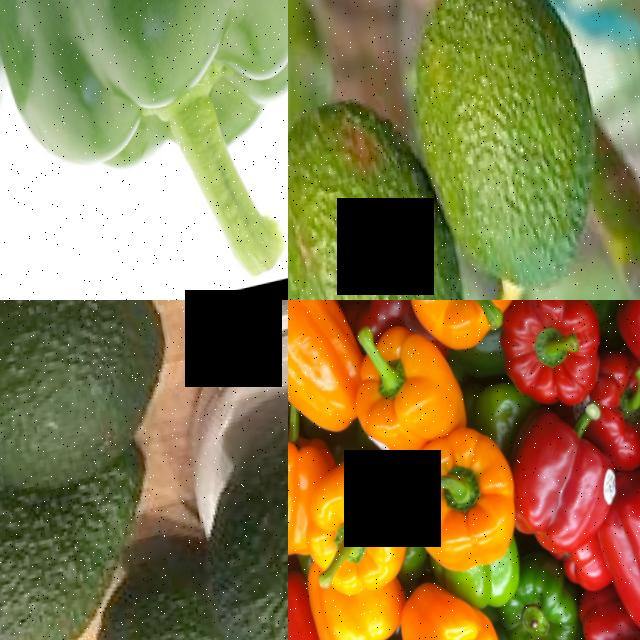avocado: (394, 0, 630, 300), (0, 300, 196, 532), (288, 88, 478, 300), (164, 343, 288, 640), (0, 459, 184, 640), (77, 538, 242, 640)
bell pepper: (0, 0, 288, 265), (506, 415, 631, 568), (409, 431, 534, 569), (298, 464, 417, 596), (288, 300, 363, 448), (501, 306, 595, 418), (365, 356, 441, 472), (303, 577, 417, 640), (395, 581, 506, 640), (600, 486, 640, 640), (407, 300, 519, 352), (600, 373, 640, 467), (288, 447, 307, 553), (288, 579, 319, 640)
